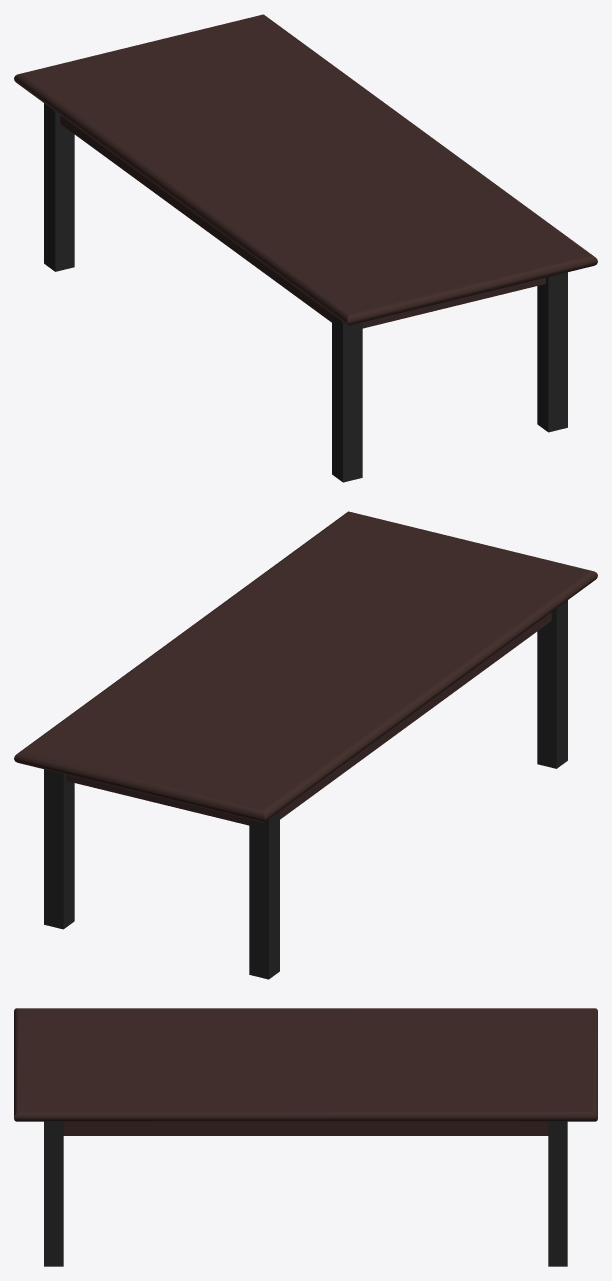
The model's file is GrandeTable_42.fbx.
The picture shows the model from 3 angles, top to bottom: view 1: azimuth 30°, elevation 25°; view 2: azimuth 150°, elevation 25°; view 3: azimuth 270°, elevation 25°; orthographic projection. The views are drawn at different scales.
Visible parts, largest first — view 1: pCube80, pCube82, pCube81, pCube83; view 2: pCube80, pCube83, pCube84, pCube82; view 3: pCube80, pCube84, pCube81.
Boxes of the visible parts, x1,y1,x2,y2 form: pCube80: (14,14,597,328); pCube82: (332,314,362,482); pCube81: (537,272,567,432); pCube83: (44,103,74,271); pCube80: (14,511,597,825); pCube83: (249,811,279,979); pCube84: (44,769,74,929); pCube82: (537,600,567,768); pCube80: (14,1008,597,1135); pCube84: (548,1121,567,1266); pCube81: (44,1121,63,1266).
Bounding box in the file's own units: 57.3 × 39.63 × 132.
